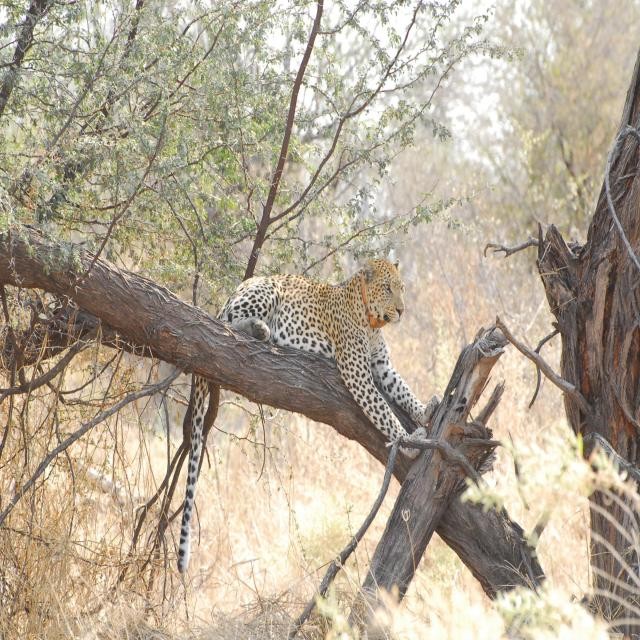Leopard: (160, 245, 435, 568)
